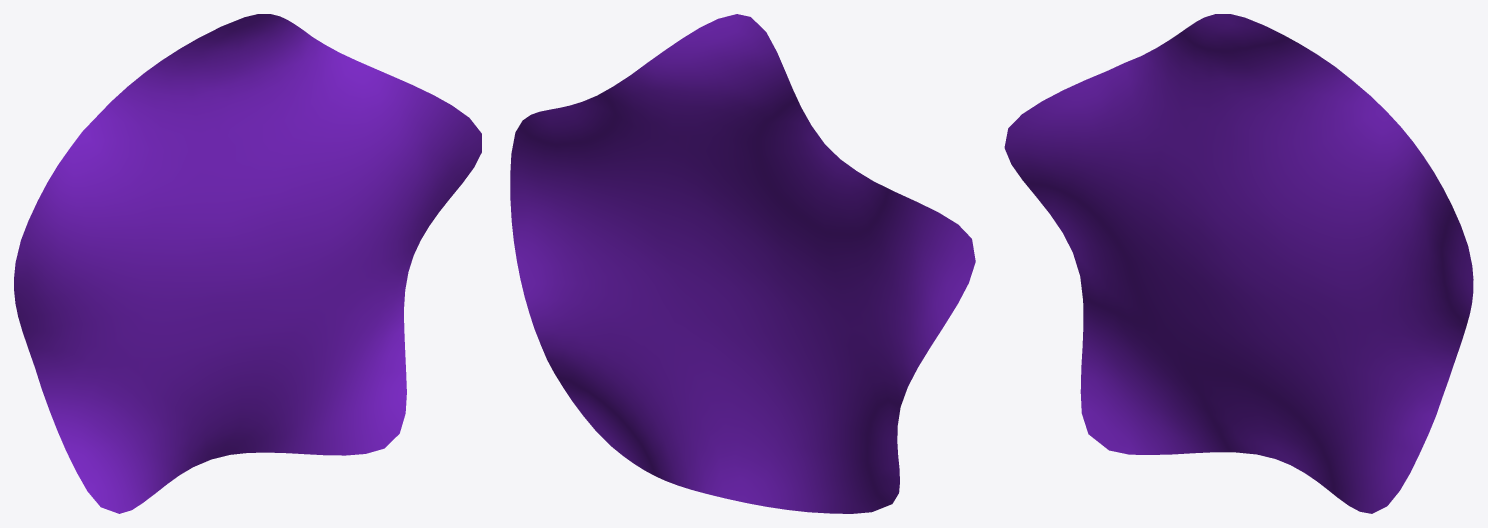
File: star3.obj
3 renders of one model, left to right at view 1: azimuth 30°, elevation 25°; view 2: azimuth 150°, elevation 25°; view 3: azimuth 330°, elevation 25°, orthographic.
Size of the model in its own units: 25.67 by 24.73 by 2.89.
